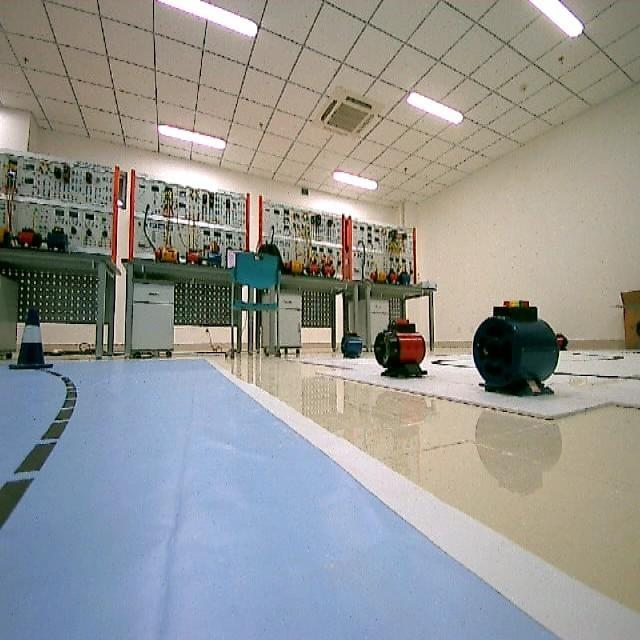obstacle: (4, 300, 59, 376)
